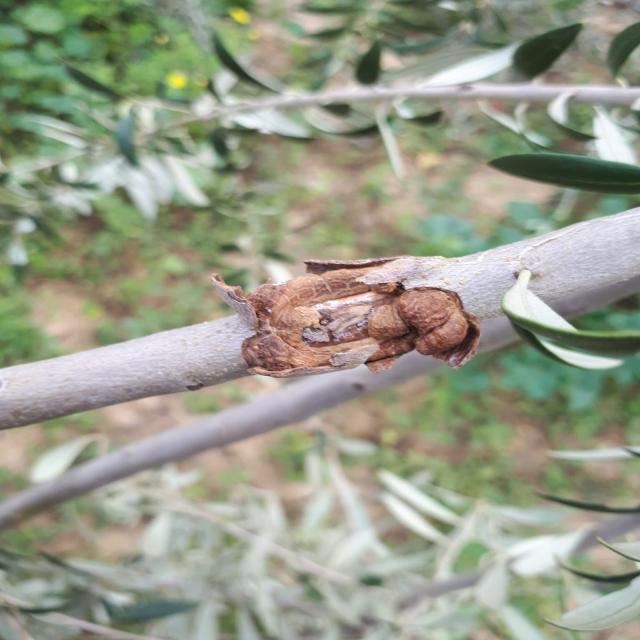Tuberculosis: (235, 258, 480, 377)
